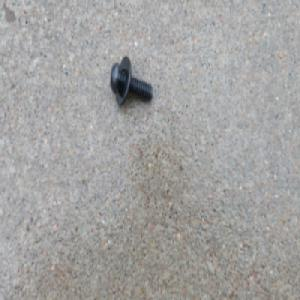BoltWasher: (109, 55, 152, 105)
